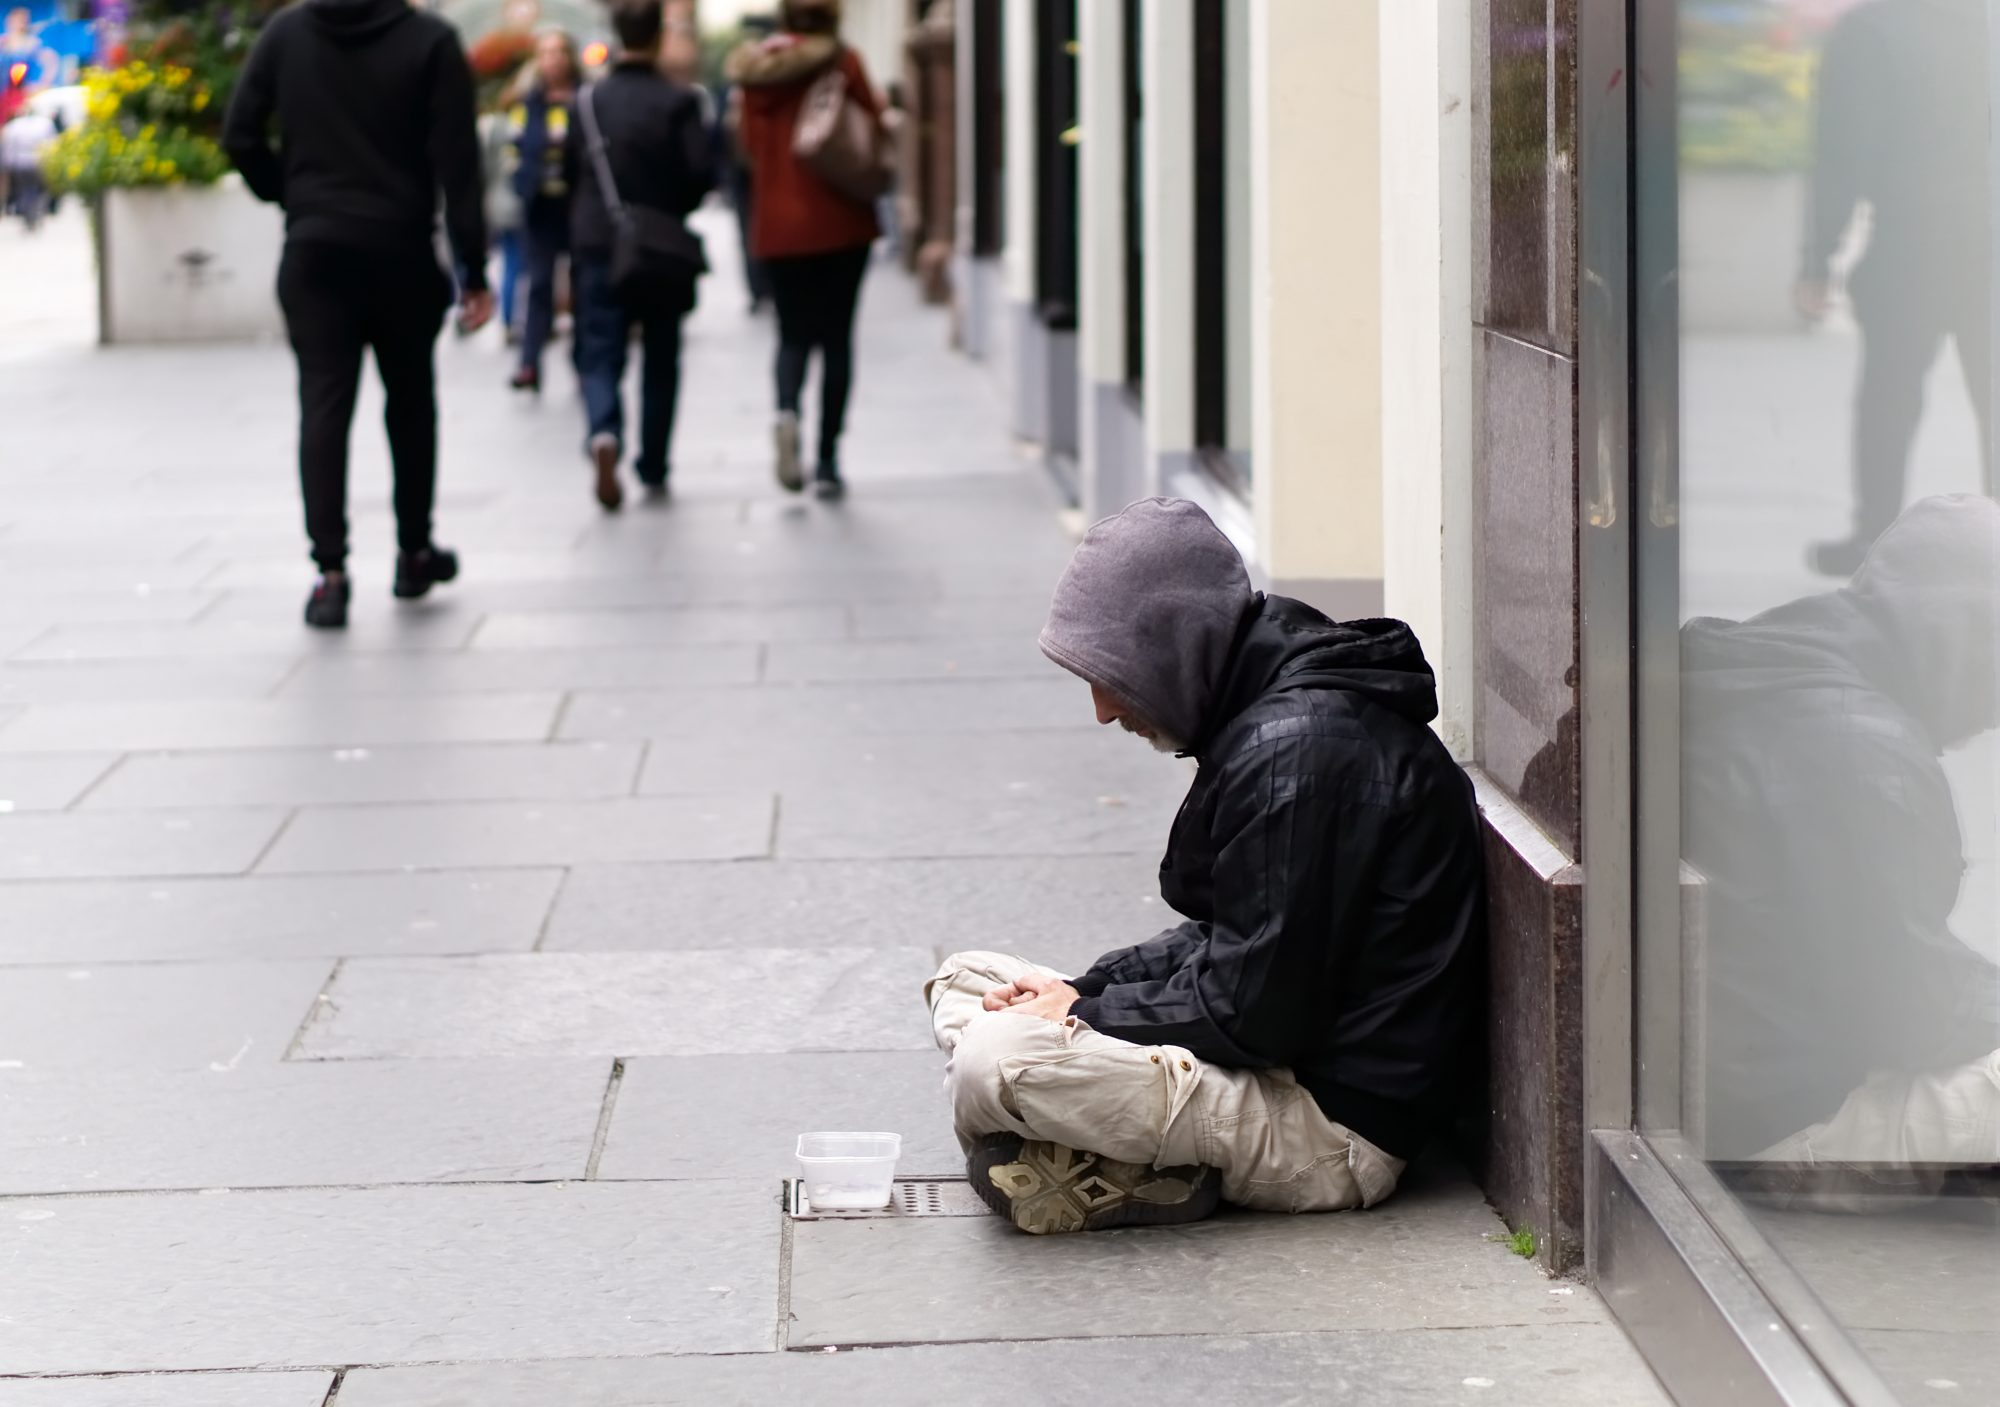person: (929, 497, 1506, 1234), (221, 1, 500, 637), (560, 1, 720, 521), (733, 1, 883, 505), (501, 25, 607, 397)
